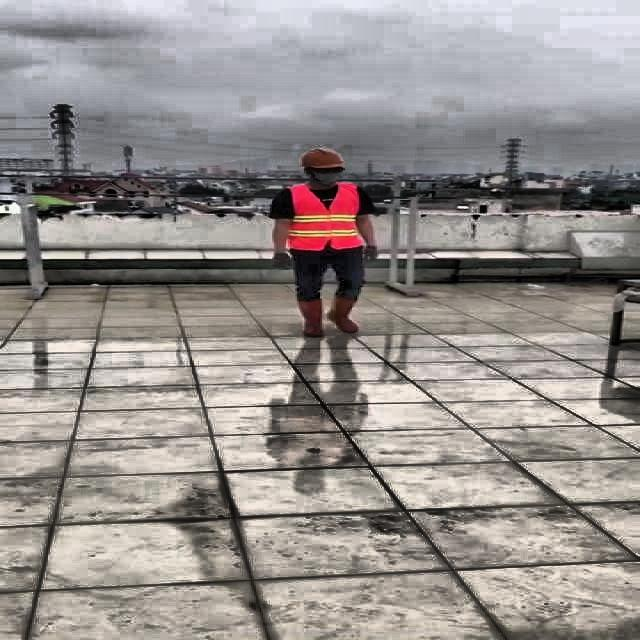safety_helmet: (298, 148, 347, 170)
safety_jacket: (288, 183, 361, 247)
